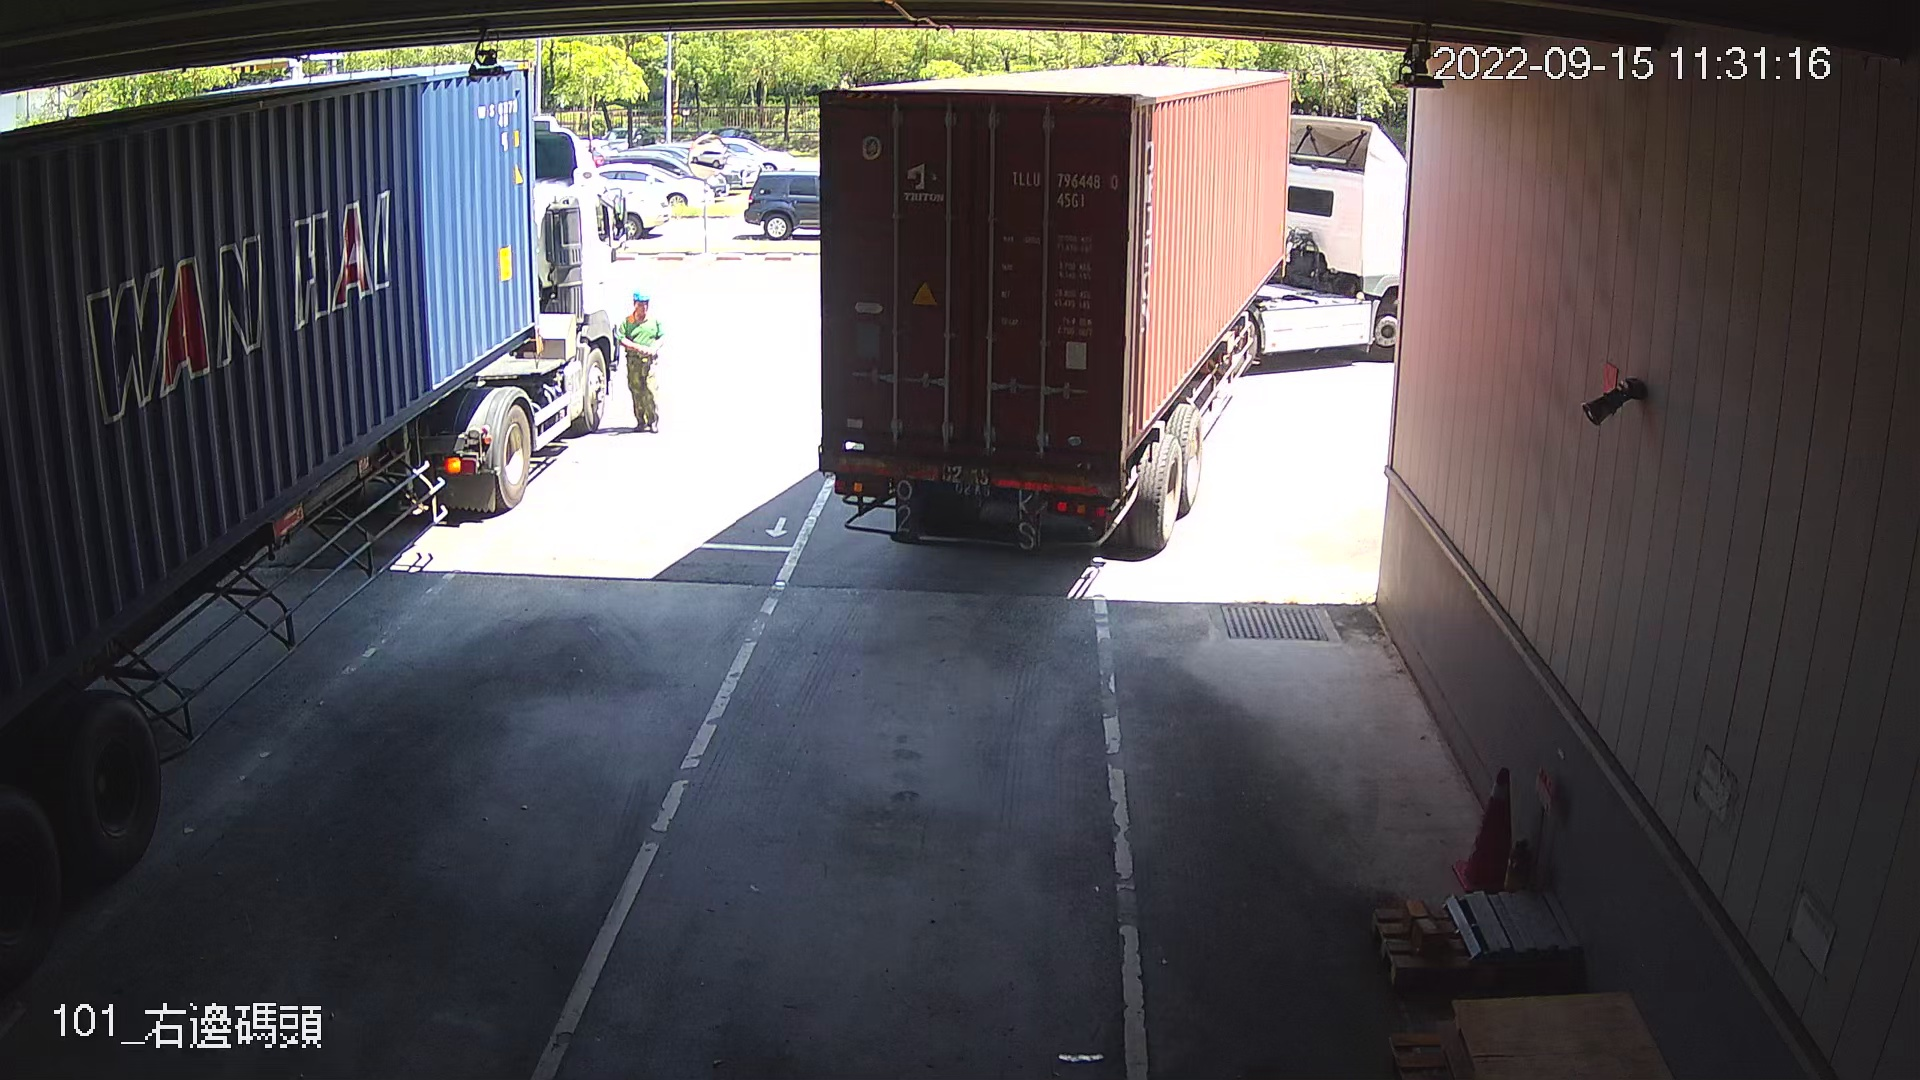container: (1004, 161, 1125, 216)
